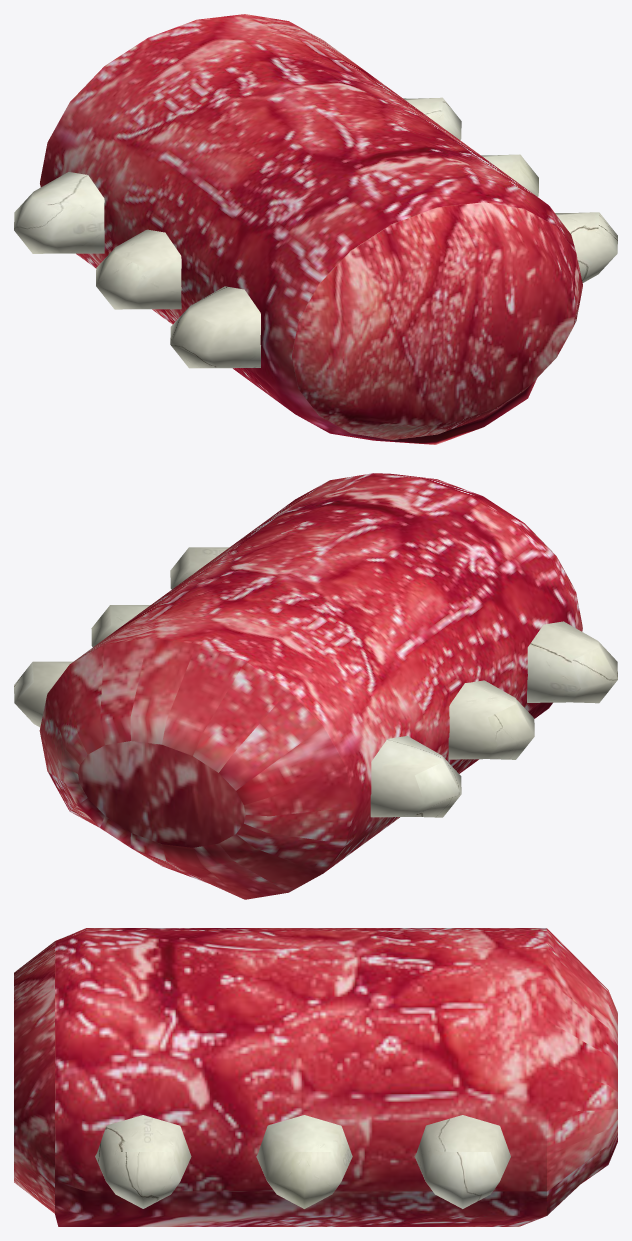
Rendered from meat (c - Adam Lindley).fbx.
3 renders of one model, top to bottom at view 1: azimuth 30°, elevation 25°; view 2: azimuth 150°, elevation 25°; view 3: azimuth 270°, elevation 25°, orthographic. The views are drawn at different scales.
Parts seen in each view (by area): view 1: pCylinder1, pasted__pCube1 (×2), pasted__pasted__pCube1 (×2), pasted__pasted__pasted__pCube1, pCube1; view 2: pCylinder1, pasted__pCube1 (×2), pasted__pasted__pCube1 (×2), pasted__pasted__pasted__pCube1, pCube1; view 3: pCylinder1, pCube1, pasted__pCube1, pasted__pasted__pCube1.
Part boxes in pixels (x1=…): pCylinder1: x1=40, y1=14, x2=582, y2=444; pasted__pCube1 (×2): x1=14, y1=172, x2=617, y2=282; pasted__pasted__pCube1 (×2): x1=170, y1=154, x2=538, y2=368; pasted__pasted__pasted__pCube1: x1=96, y1=229, x2=181, y2=309; pCube1: x1=403, y1=97, x2=461, y2=139; pCylinder1: x1=39, y1=473, x2=582, y2=899; pasted__pCube1 (×2): x1=170, y1=547, x2=461, y2=817; pasted__pasted__pCube1 (×2): x1=91, y1=605, x2=617, y2=703; pasted__pasted__pasted__pCube1: x1=448, y1=680, x2=534, y2=759; pCube1: x1=14, y1=661, x2=72, y2=727; pCylinder1: x1=14, y1=928, x2=617, y2=1226; pCube1: x1=414, y1=1115, x2=510, y2=1208; pasted__pCube1: x1=95, y1=1115, x2=191, y2=1208; pasted__pasted__pCube1: x1=256, y1=1115, x2=352, y2=1208.
Size of the model in its own units: 3.29 by 1.76 by 3.77.
